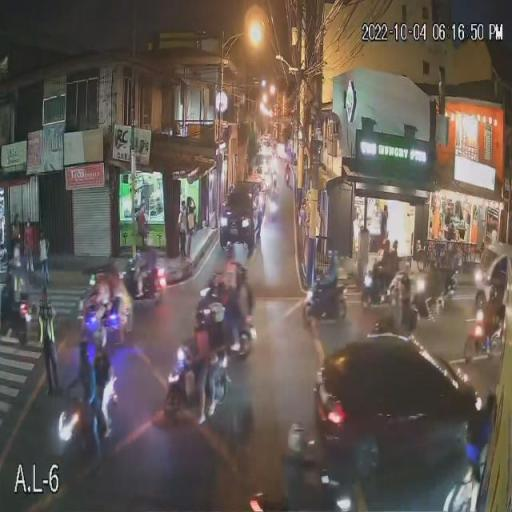helmet: (287, 423, 306, 441), (210, 301, 226, 316), (196, 286, 211, 301), (88, 278, 102, 290)
motorcycle: (58, 295, 124, 456), (163, 285, 231, 423), (380, 266, 421, 334), (415, 260, 459, 322), (220, 294, 258, 362), (462, 298, 500, 366), (304, 271, 347, 323), (126, 254, 166, 304), (0, 275, 33, 335)
rider: (283, 421, 339, 512), (192, 279, 227, 384), (218, 259, 254, 345), (79, 274, 115, 356), (100, 262, 130, 334), (474, 278, 504, 348), (390, 258, 418, 324), (434, 241, 462, 300), (314, 250, 340, 308), (132, 239, 158, 295), (370, 238, 390, 300), (384, 238, 401, 296)
